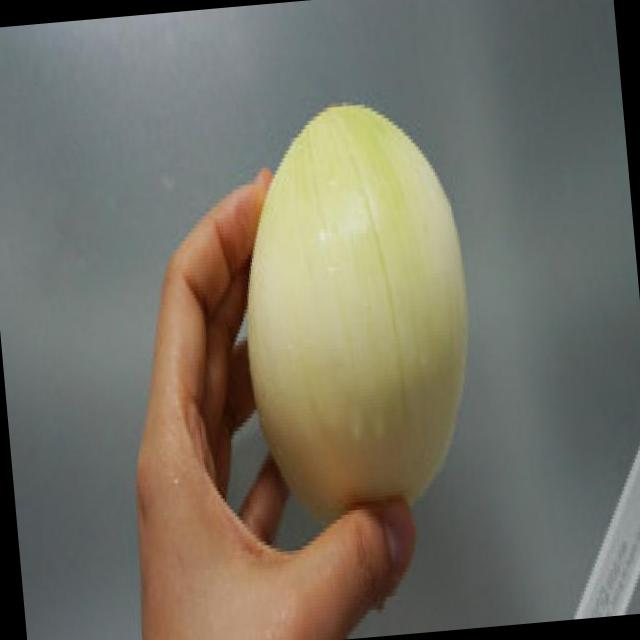Onion: (224, 75, 492, 538)
